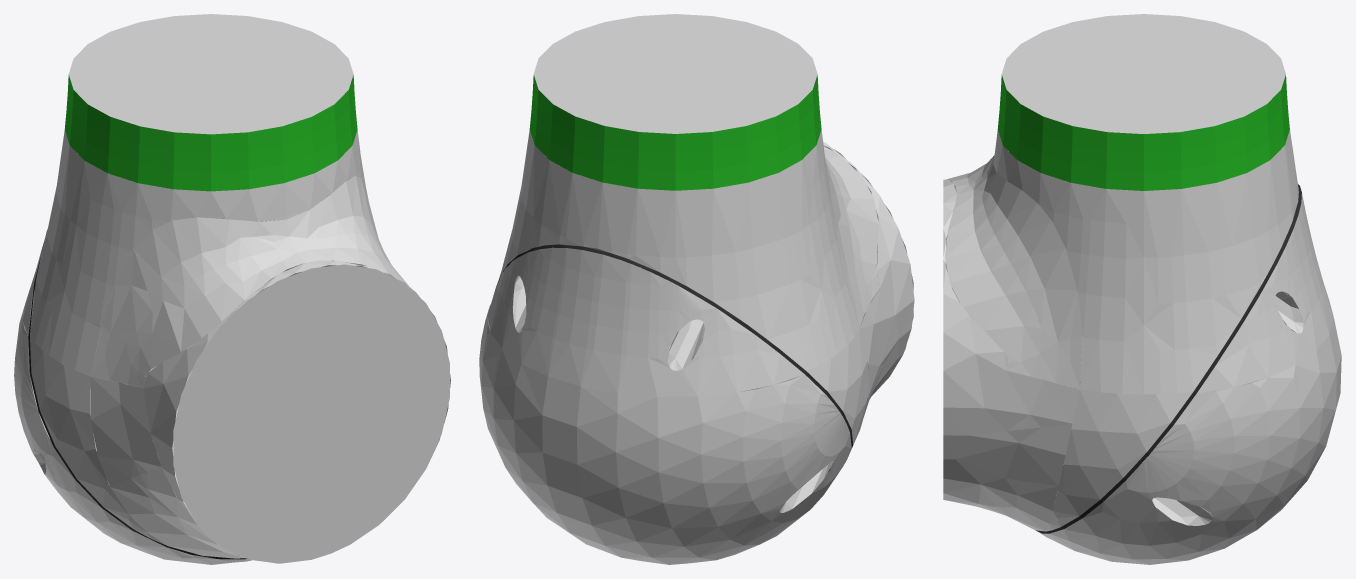
3 renders of one model, left to right at view 1: azimuth 30°, elevation 25°; view 2: azimuth 150°, elevation 25°; view 3: azimuth 270°, elevation 25°, orthographic.
Parts seen in each view (by area): view 1: node; view 2: node; view 3: node.
Part boxes in pixels (bbox=[...]): node: bbox=[14, 14, 450, 564]; node: bbox=[479, 14, 914, 564]; node: bbox=[943, 14, 1341, 564].
Size of the model in its own units: 154 by 205 by 157.
